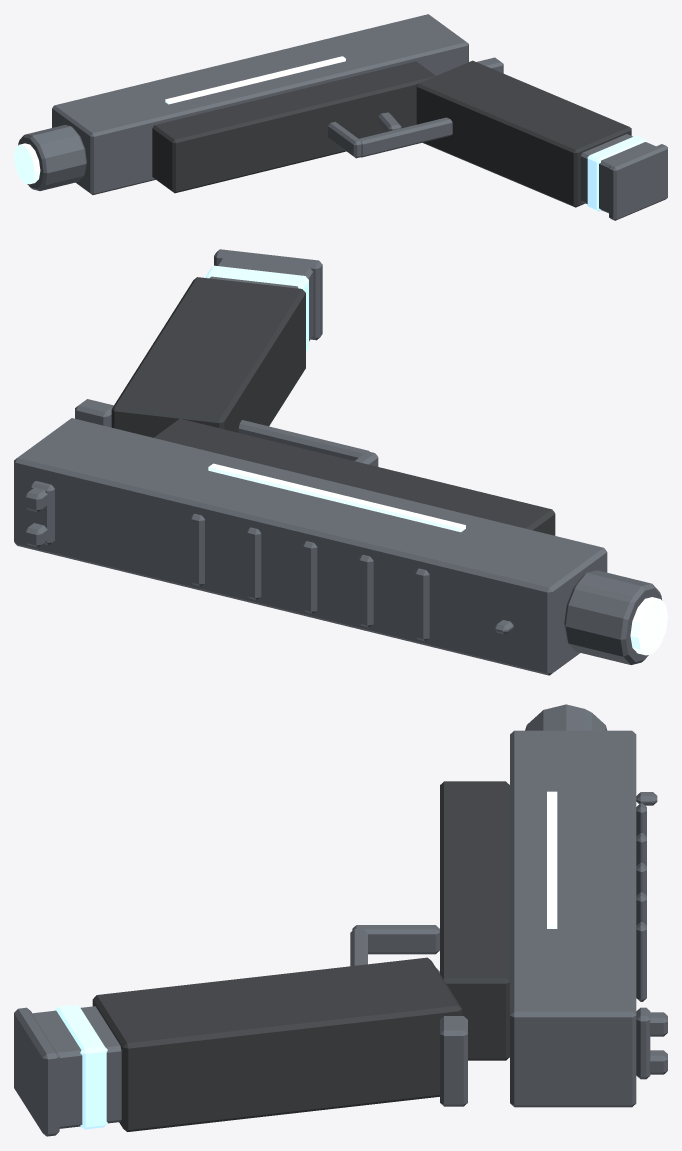
The model's file is laser_pistol_item.glb.
3 views of the same model, one above another, from view 1: azimuth 30°, elevation 25°; view 2: azimuth 150°, elevation 25°; view 3: azimuth 270°, elevation 25° (orthographic). The views are drawn at different scales.
Parts seen in each view (by area): view 1: Body, Clip, Emitter; view 2: Body, Clip, Emitter; view 3: Body, Clip, Emitter.
Part boxes in pixels (box(x1,y1,x2,y2)): Body: box(18, 14, 631, 207); Clip: box(580, 134, 667, 220); Emitter: box(14, 56, 345, 184); Body: box(14, 277, 662, 675); Clip: box(205, 249, 322, 351); Emitter: box(208, 463, 667, 655); Body: box(92, 704, 667, 1131); Clip: box(14, 1004, 121, 1136); Emitter: box(547, 791, 557, 928).
Size of the model in its own units: 0.2411 by 0.0325 by 0.1864.
